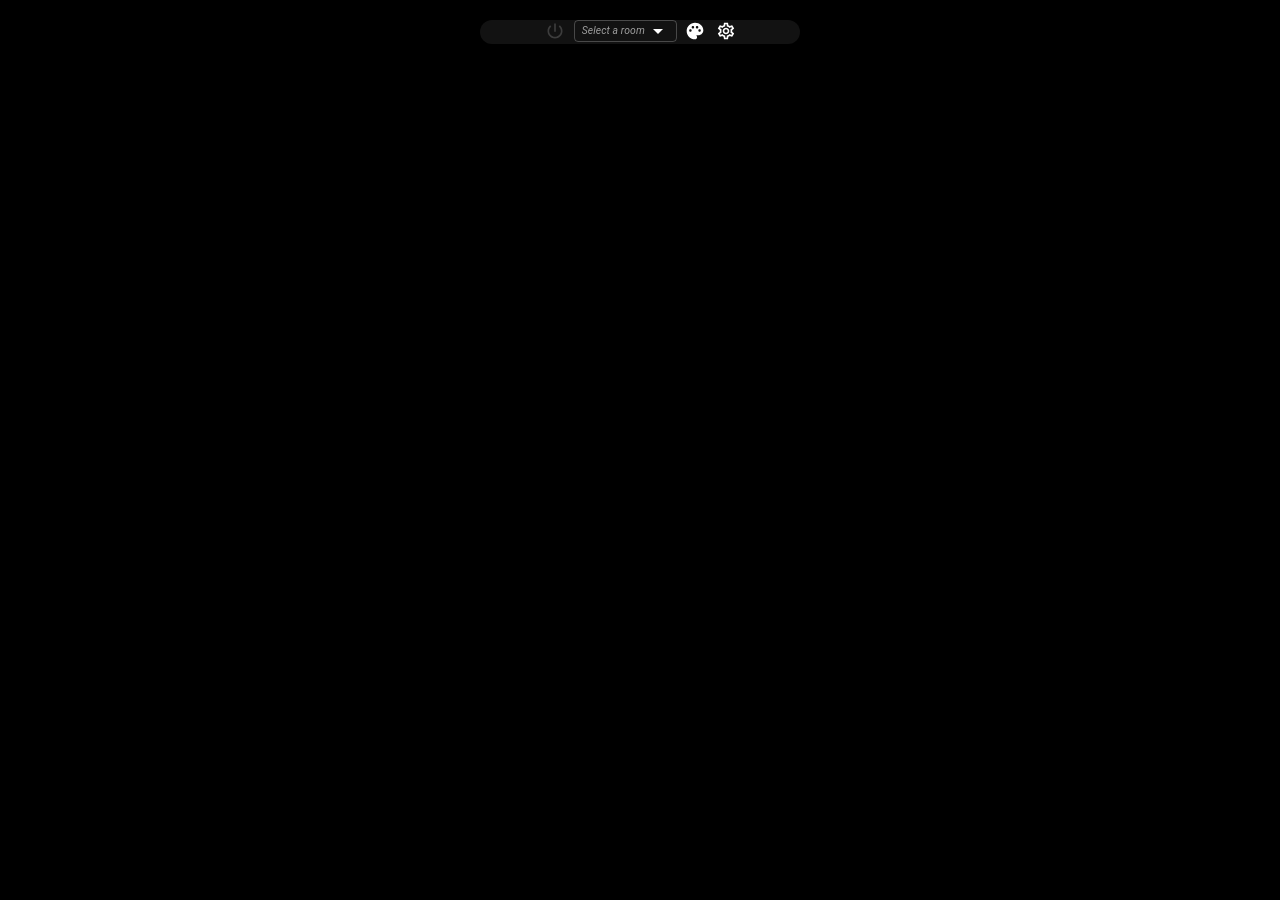
loads zones and shows them in the selector
// MUI needs mouseDown on the element to open
Step 1. Click the dropdown → [613, 31], box x1=582 y1=24 x2=645 y2=37
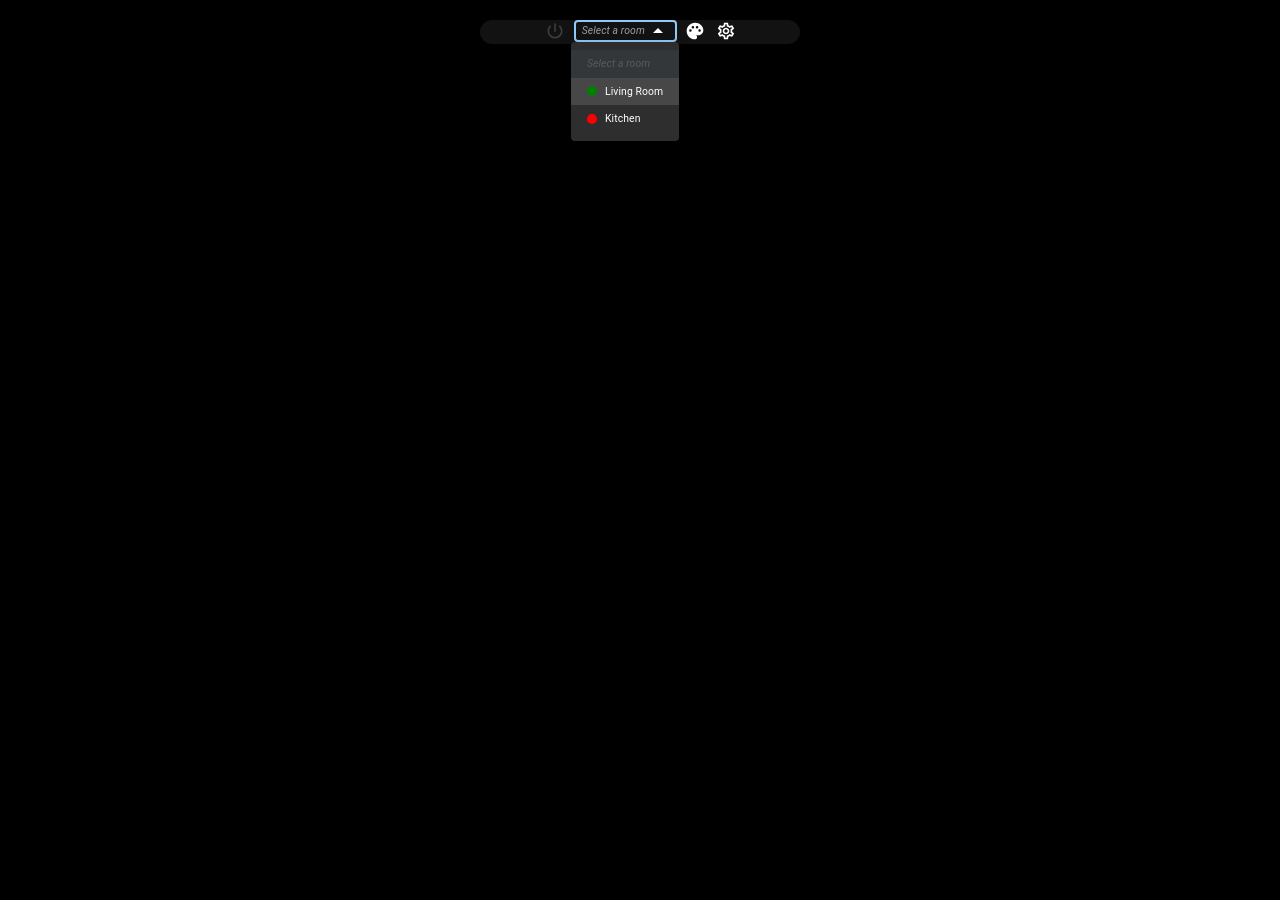
Now the text "Living Room" is shown, box x1=605 y1=84 x2=663 y2=99
Now the text "Kitchen" is shown, box x1=605 y1=111 x2=640 y2=127
